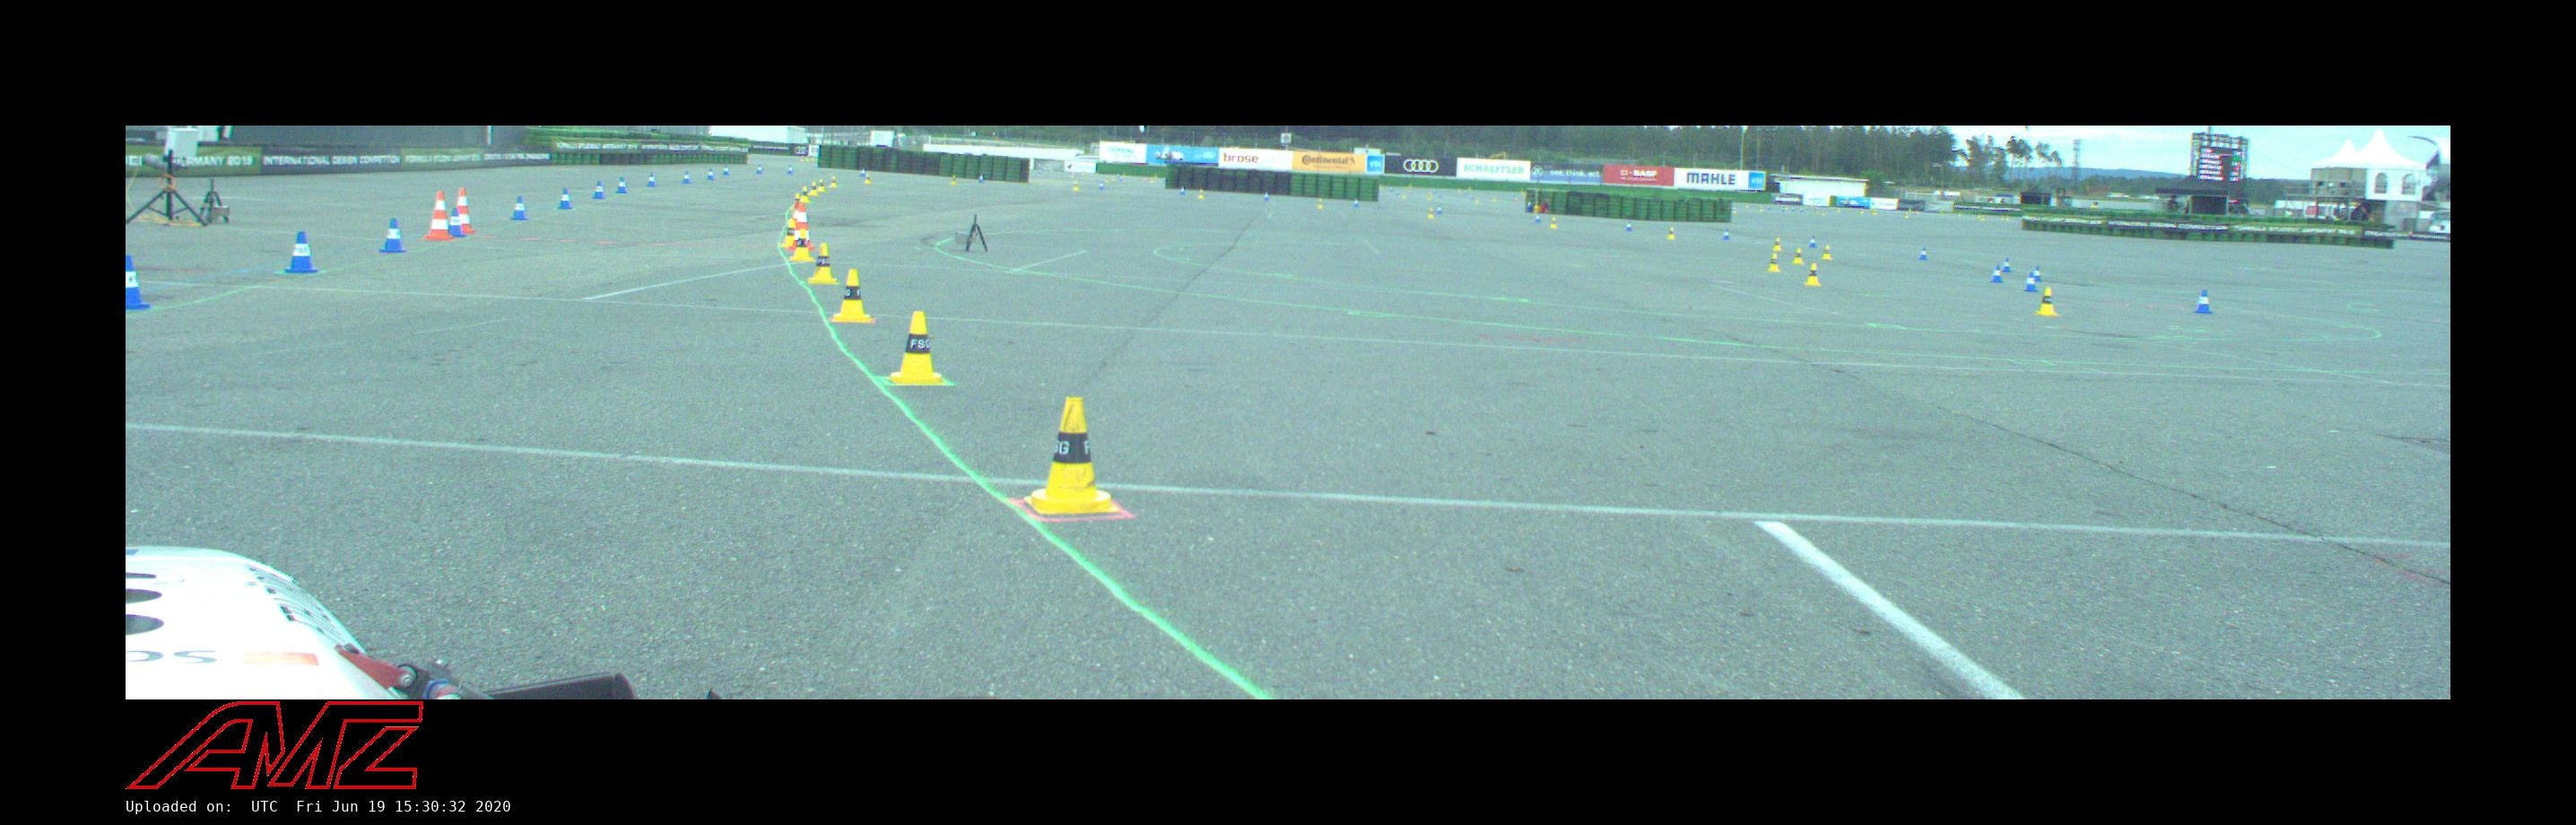blue_cone: (284, 232, 320, 273), (125, 253, 151, 309), (378, 219, 409, 253), (449, 207, 468, 238), (2193, 289, 2213, 314), (511, 196, 529, 220), (2022, 270, 2039, 293), (555, 189, 573, 209), (591, 181, 606, 199), (1990, 266, 2004, 283), (2027, 266, 2042, 283), (1999, 258, 2012, 271), (616, 177, 628, 192), (1917, 248, 1929, 260), (647, 173, 657, 186), (682, 171, 690, 182), (1809, 237, 1817, 248), (706, 169, 715, 179), (1723, 228, 1730, 240), (1625, 222, 1633, 230), (787, 164, 793, 174), (1534, 214, 1541, 224), (756, 164, 762, 174), (723, 166, 729, 174), (1263, 192, 1270, 200), (1438, 204, 1442, 214), (1099, 182, 1104, 191), (1354, 199, 1359, 207), (979, 174, 984, 182), (1180, 186, 1184, 194), (859, 169, 864, 176)
large_orange_cone: (417, 191, 460, 240), (444, 189, 480, 235), (785, 204, 818, 251), (785, 204, 808, 250)
yellow_cone: (1023, 396, 1120, 514), (885, 311, 948, 385), (833, 270, 874, 322), (807, 243, 841, 286), (789, 228, 813, 261), (2036, 288, 2057, 316), (782, 219, 798, 247), (1804, 263, 1822, 286), (797, 186, 812, 202), (1766, 253, 1779, 271), (792, 192, 803, 210), (1792, 248, 1804, 263), (815, 179, 826, 192), (807, 182, 818, 196), (1820, 247, 1832, 260), (828, 176, 838, 187), (1773, 237, 1781, 250), (951, 174, 958, 184), (864, 174, 871, 184), (1667, 228, 1674, 238), (1198, 189, 1204, 199), (1551, 219, 1556, 228), (1428, 209, 1433, 219), (1074, 181, 1079, 191), (1318, 199, 1322, 209)
